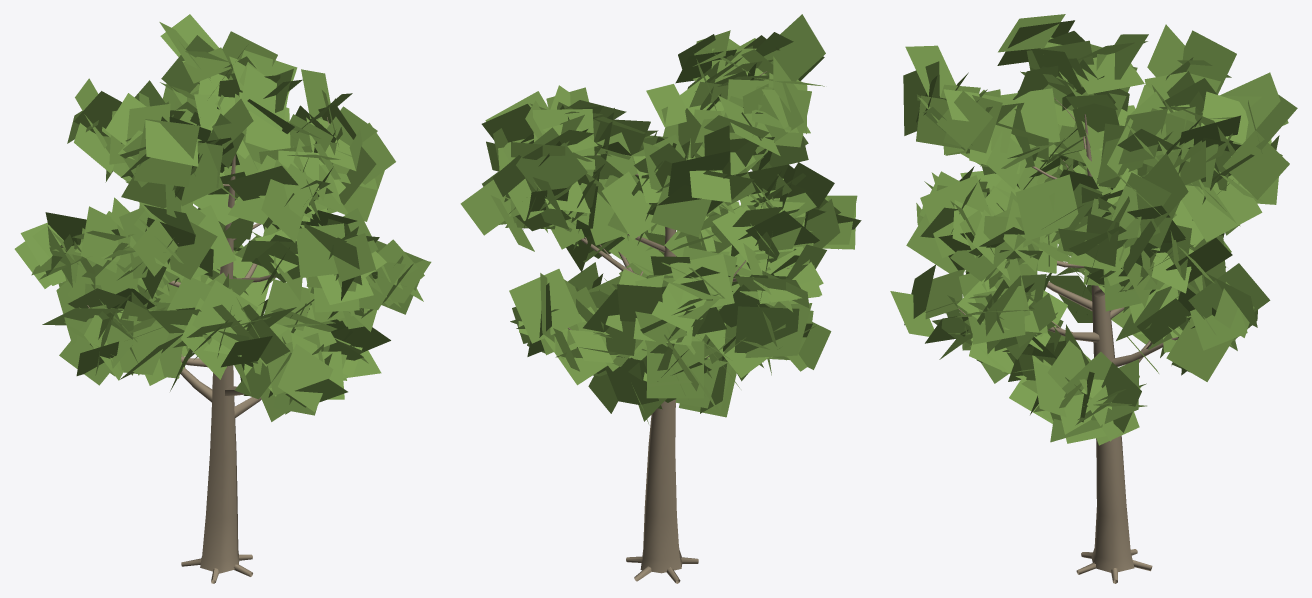
The model's file is oak-1-lod1.glb.
The picture shows the model from 3 angles, left to right: view 1: azimuth 30°, elevation 25°; view 2: azimuth 150°, elevation 25°; view 3: azimuth 270°, elevation 25°; orthographic projection. The views are drawn at different scales.
Parts seen in each view (by area): view 1: oak-1-lod1-foliage, oak-1-lod1-bark; view 2: oak-1-lod1-foliage, oak-1-lod1-bark; view 3: oak-1-lod1-foliage, oak-1-lod1-bark.
Boxes of the visible parts, <box> form: oak-1-lod1-foliage: <box>14,14,431,421</box>; oak-1-lod1-bark: <box>61,117,328,583</box>; oak-1-lod1-foliage: <box>460,14,861,423</box>; oak-1-lod1-bark: <box>567,71,788,583</box>; oak-1-lod1-foliage: <box>890,14,1297,445</box>; oak-1-lod1-bark: <box>958,64,1181,583</box>.
Size of the model in its own units: 15.32 by 21.44 by 15.61.
